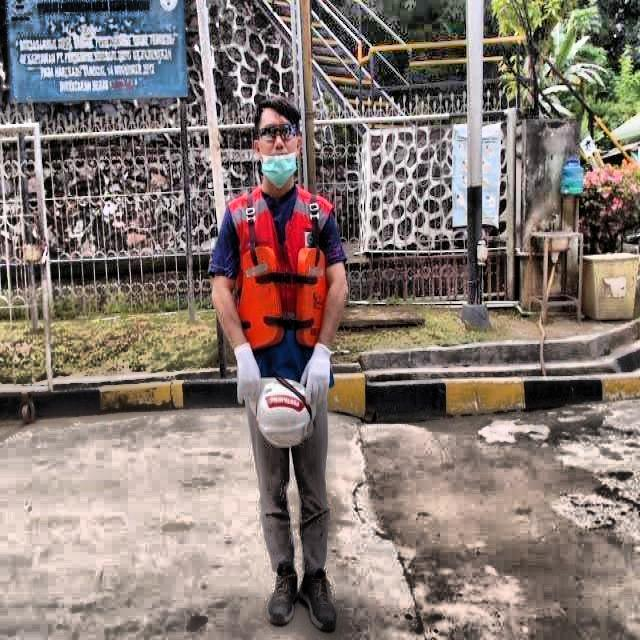safety_helmet: (248, 378, 317, 449)
safety_jacket: (230, 186, 335, 390)
